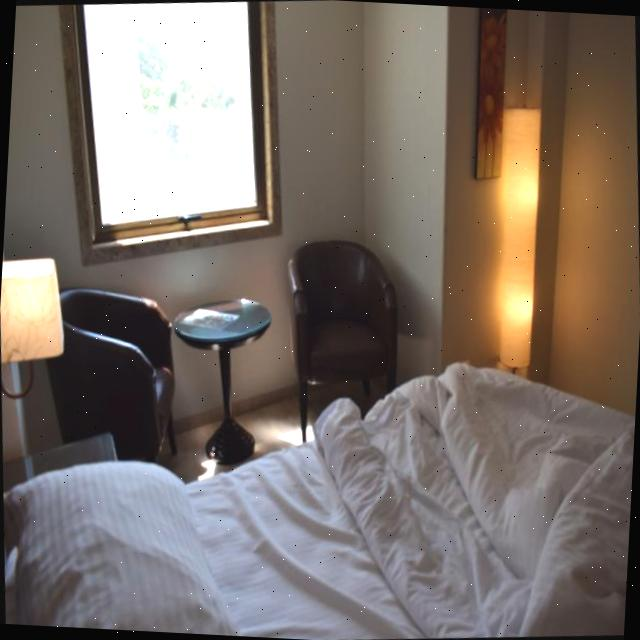chair: (280, 240, 400, 443), (48, 287, 182, 466)
mess: (361, 379, 637, 639)
messy_bed: (6, 363, 634, 640)
organized table: (168, 292, 280, 466)
